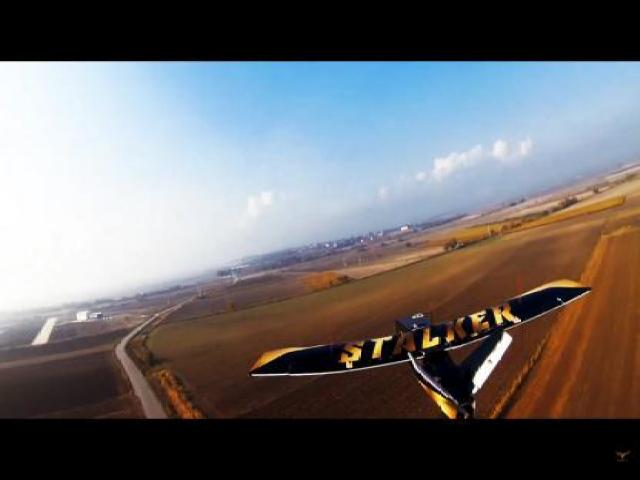uav: (244, 276, 596, 420)
